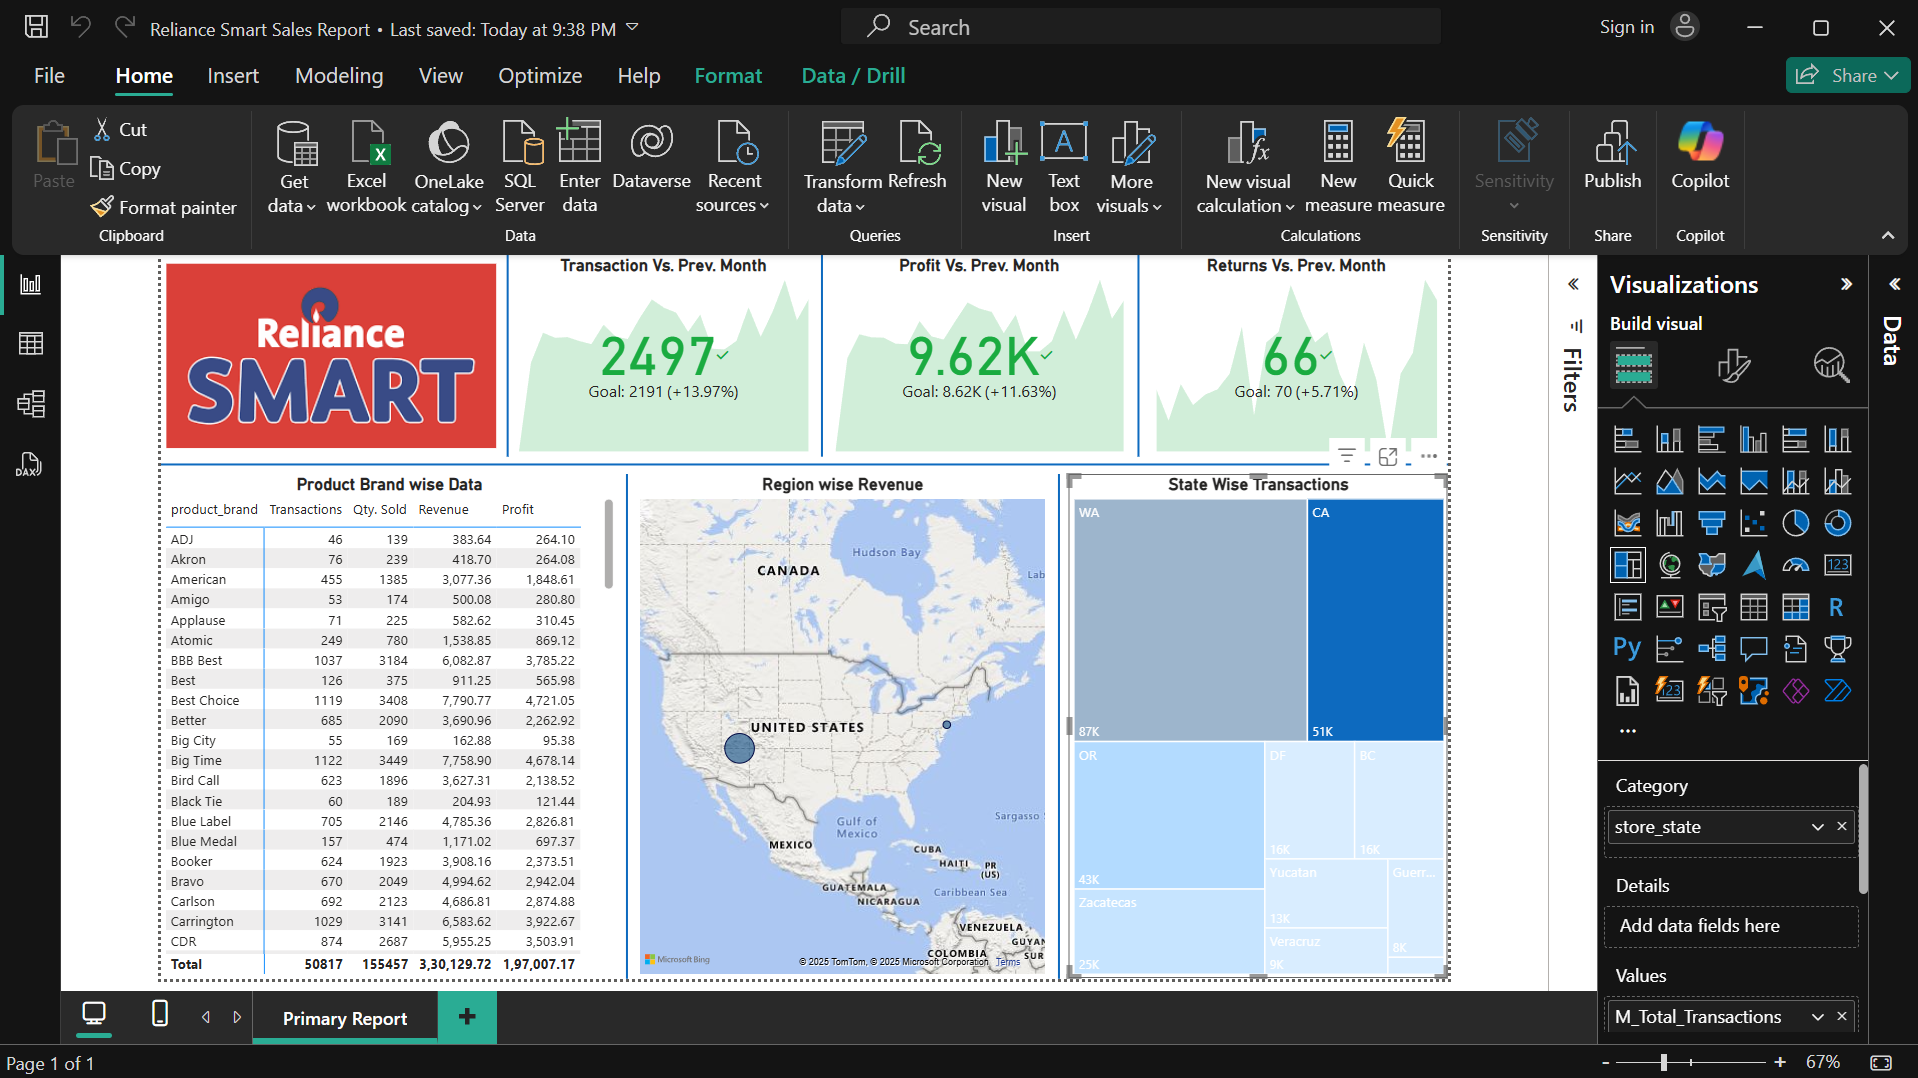

The page's visual inventory and layout, read from the dashboard file:
{"tool":"powerbi","page":{"name":"Primary Report","canvas":[1280,720],"ordinal":0},"visuals":[{"type":"image","box":[0,0,338.4,200.6],"z":0},{"type":"shape","box":[0,200.6,1280,16.8],"z":1000},{"type":"pivotTable","title":"Product Brand wise Data","fields":{"Rows":["d_Products.product_brand"],"Values":["Measure Table.M_Total_Transactions","Measure Table.M_Quantity_Sold","Measure Table.M_Total_Revenue","Measure Table.M_Total_Profit"]},"box":[0,217.4,454.7,502.2],"z":2000},{"type":"shape","box":[454.7,217.4,16.8,502.2],"z":3000},{"type":"map","title":"Region wise Revenue","fields":{"Category":["d_Regions.sales_region"],"Size":["Measure Table.M_Total_Revenue"]},"box":[471.6,217.4,413.4,502.2],"z":4000},{"type":"shape","box":[885,217.4,16.8,502.2],"z":5000},{"type":"treemap","title":"State Wise Transactions","fields":{"Group":["d_Stores.store_state"],"Values":["Measure Table.M_Total_Transactions"]},"box":[901.8,217.4,378.2,502.2],"z":6000},{"type":"shape","box":[338.4,0,12.2,200.6],"z":7000},{"type":"kpi","title":"Transaction Vs. Prev. Month","fields":{"Goal":["Measure Table.M_Previous_Month_Trasactions"],"Indicator":["Measure Table.M_Total_Transactions"],"TrendLine":["d_Calendar.Start of Month"]},"box":[350.6,0,298.6,200.6],"z":8000},{"type":"shape","box":[649.2,0,16.8,200.6],"z":9000},{"type":"kpi","title":"Profit Vs. Prev. Month","fields":{"Goal":["Measure Table.M_Previous_Month_Profit"],"TrendLine":["d_Calendar.Start of Month"],"Indicator":["Measure Table.M_Total_Profit"]},"box":[666,0,297,200.6],"z":10000},{"type":"shape","box":[963.1,0,16.8,200.6],"z":11000},{"type":"kpi","title":"Returns Vs. Prev. Month","fields":{"Goal":["Measure Table.M_Previous_Month_Returns"],"TrendLine":["d_Calendar.Start of Month"],"Indicator":["Measure Table.M_Total_Returns"]},"box":[984.5,0,289.4,200.6],"z":12000}]}

Visuals, with their boxes on the page's 1280x720 design canvas (x1, y1, x2, y2). These are canvas units, not pixel positions in the 1918x1078 screenshot, which may show the page scaled, cropped or inside an application window:
image: box(0, 0, 338, 201)
shape: box(0, 201, 1280, 217)
"Product Brand wise Data" pivotTable: box(0, 217, 455, 720)
shape: box(455, 217, 472, 720)
"Region wise Revenue" map: box(472, 217, 885, 720)
shape: box(885, 217, 902, 720)
"State Wise Transactions" treemap: box(902, 217, 1280, 720)
shape: box(338, 0, 351, 201)
"Transaction Vs. Prev. Month" kpi: box(351, 0, 649, 201)
shape: box(649, 0, 666, 201)
"Profit Vs. Prev. Month" kpi: box(666, 0, 963, 201)
shape: box(963, 0, 980, 201)
"Returns Vs. Prev. Month" kpi: box(984, 0, 1274, 201)
